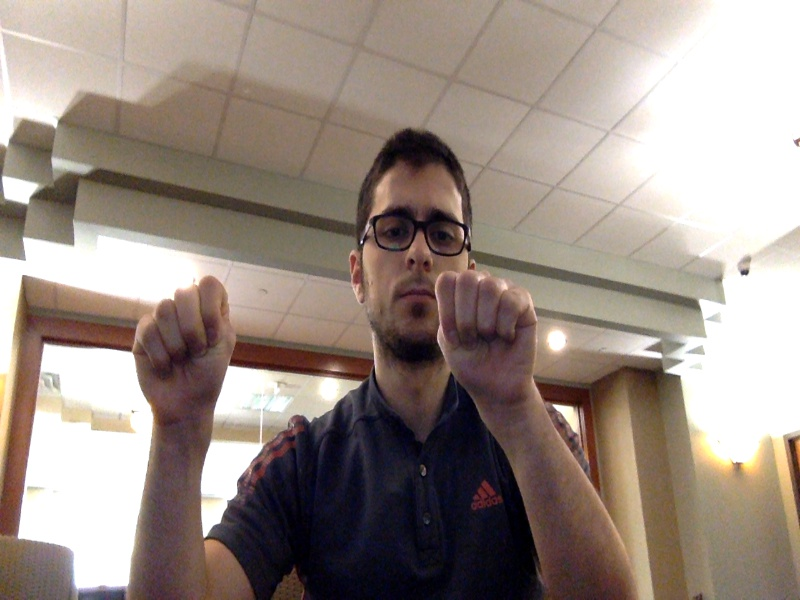0-hand: (132, 276, 233, 432), (437, 269, 539, 411)
